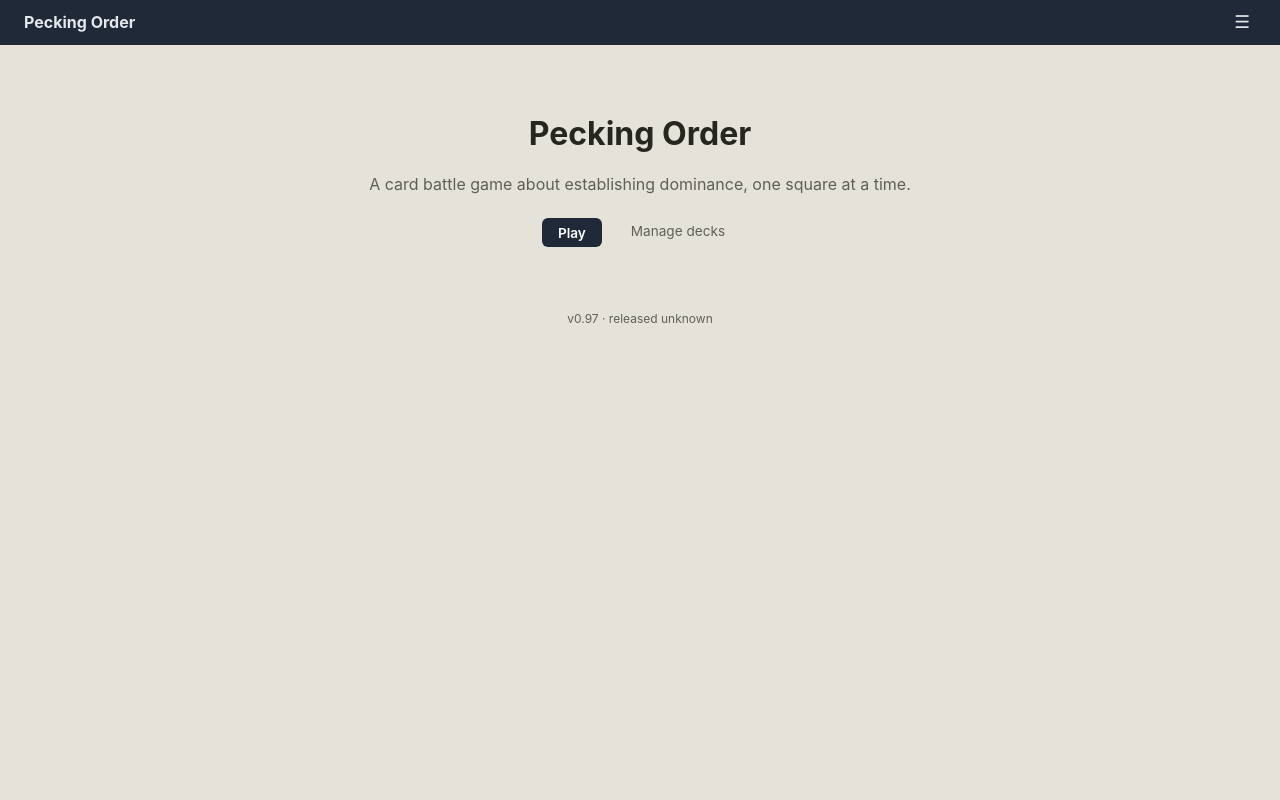
Test case: App › toggles the theme from inside the hamburger menu
Click the button named "Menu": x=1242, y=23 left=1228, top=13, right=1256, bottom=33
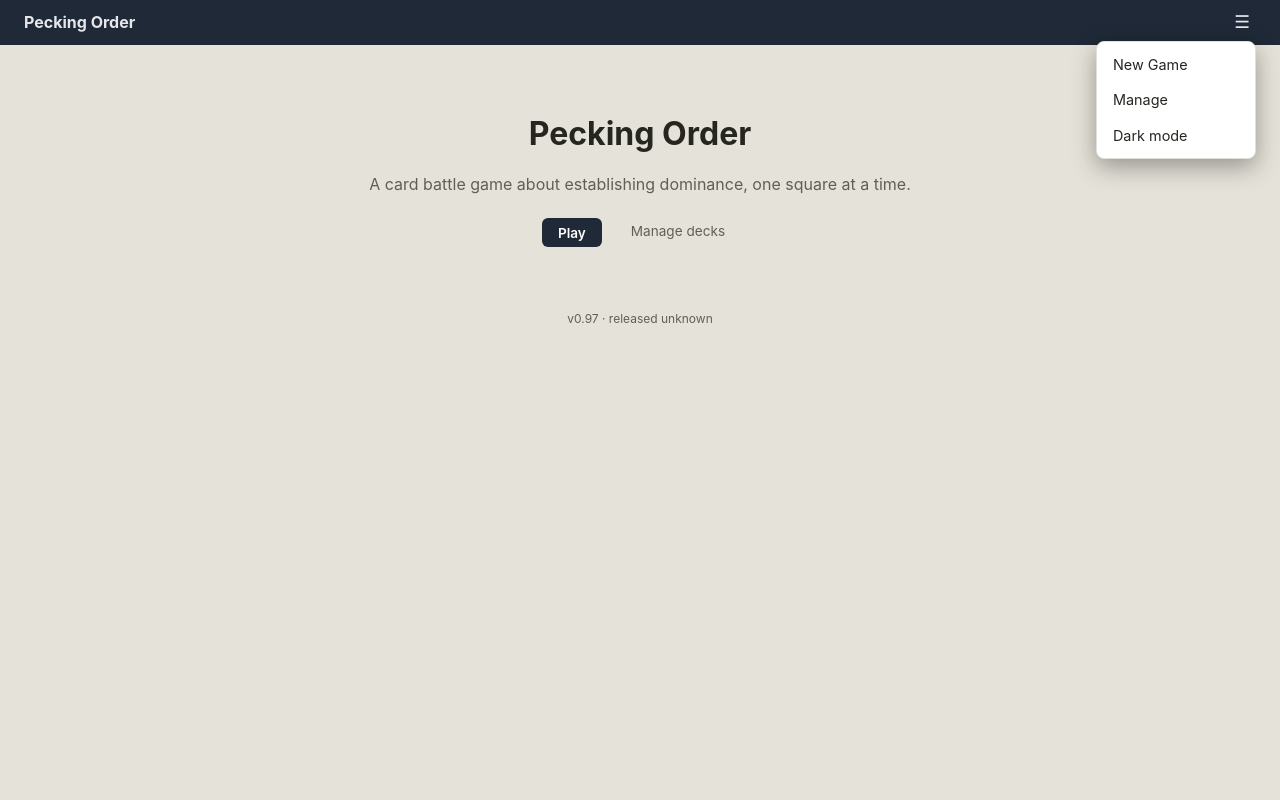
Click the button "Dark mode": x=1176, y=135 left=1103, top=119, right=1249, bottom=152
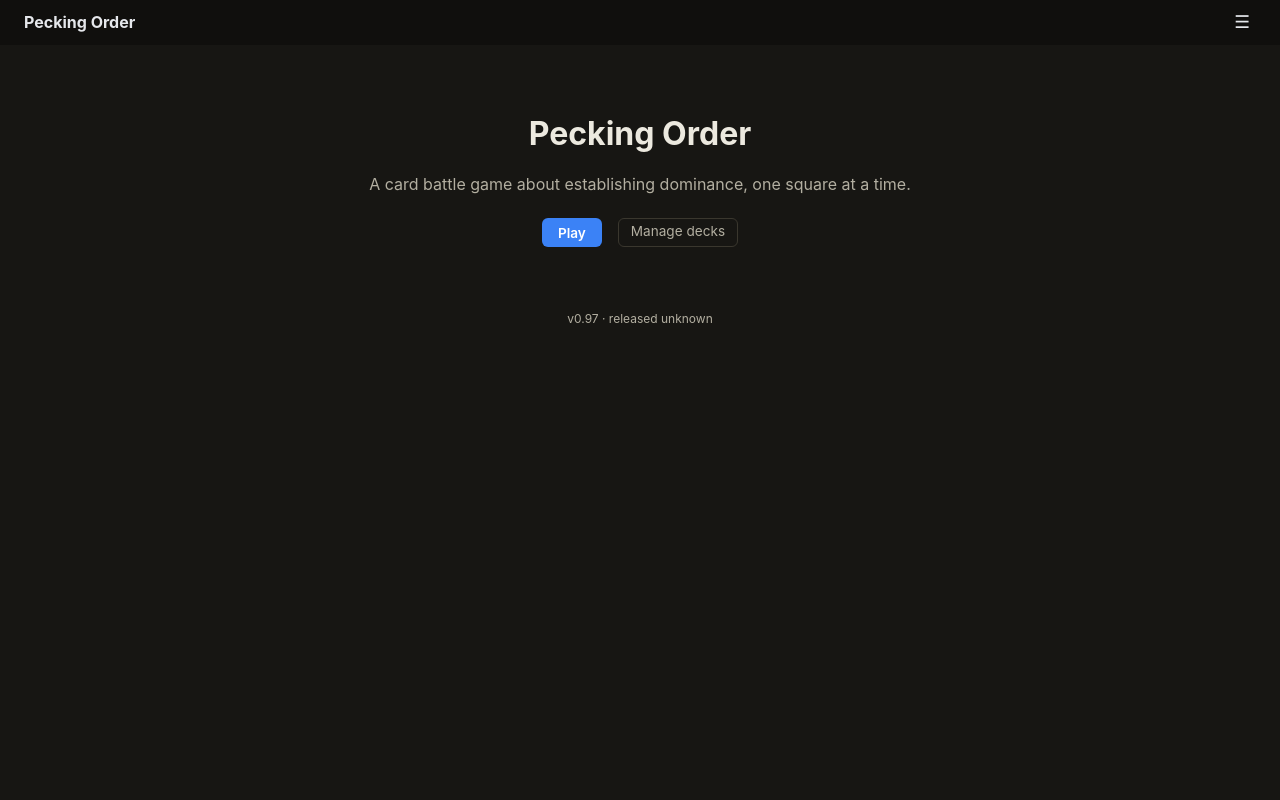
Result: the button "mode" is gone
